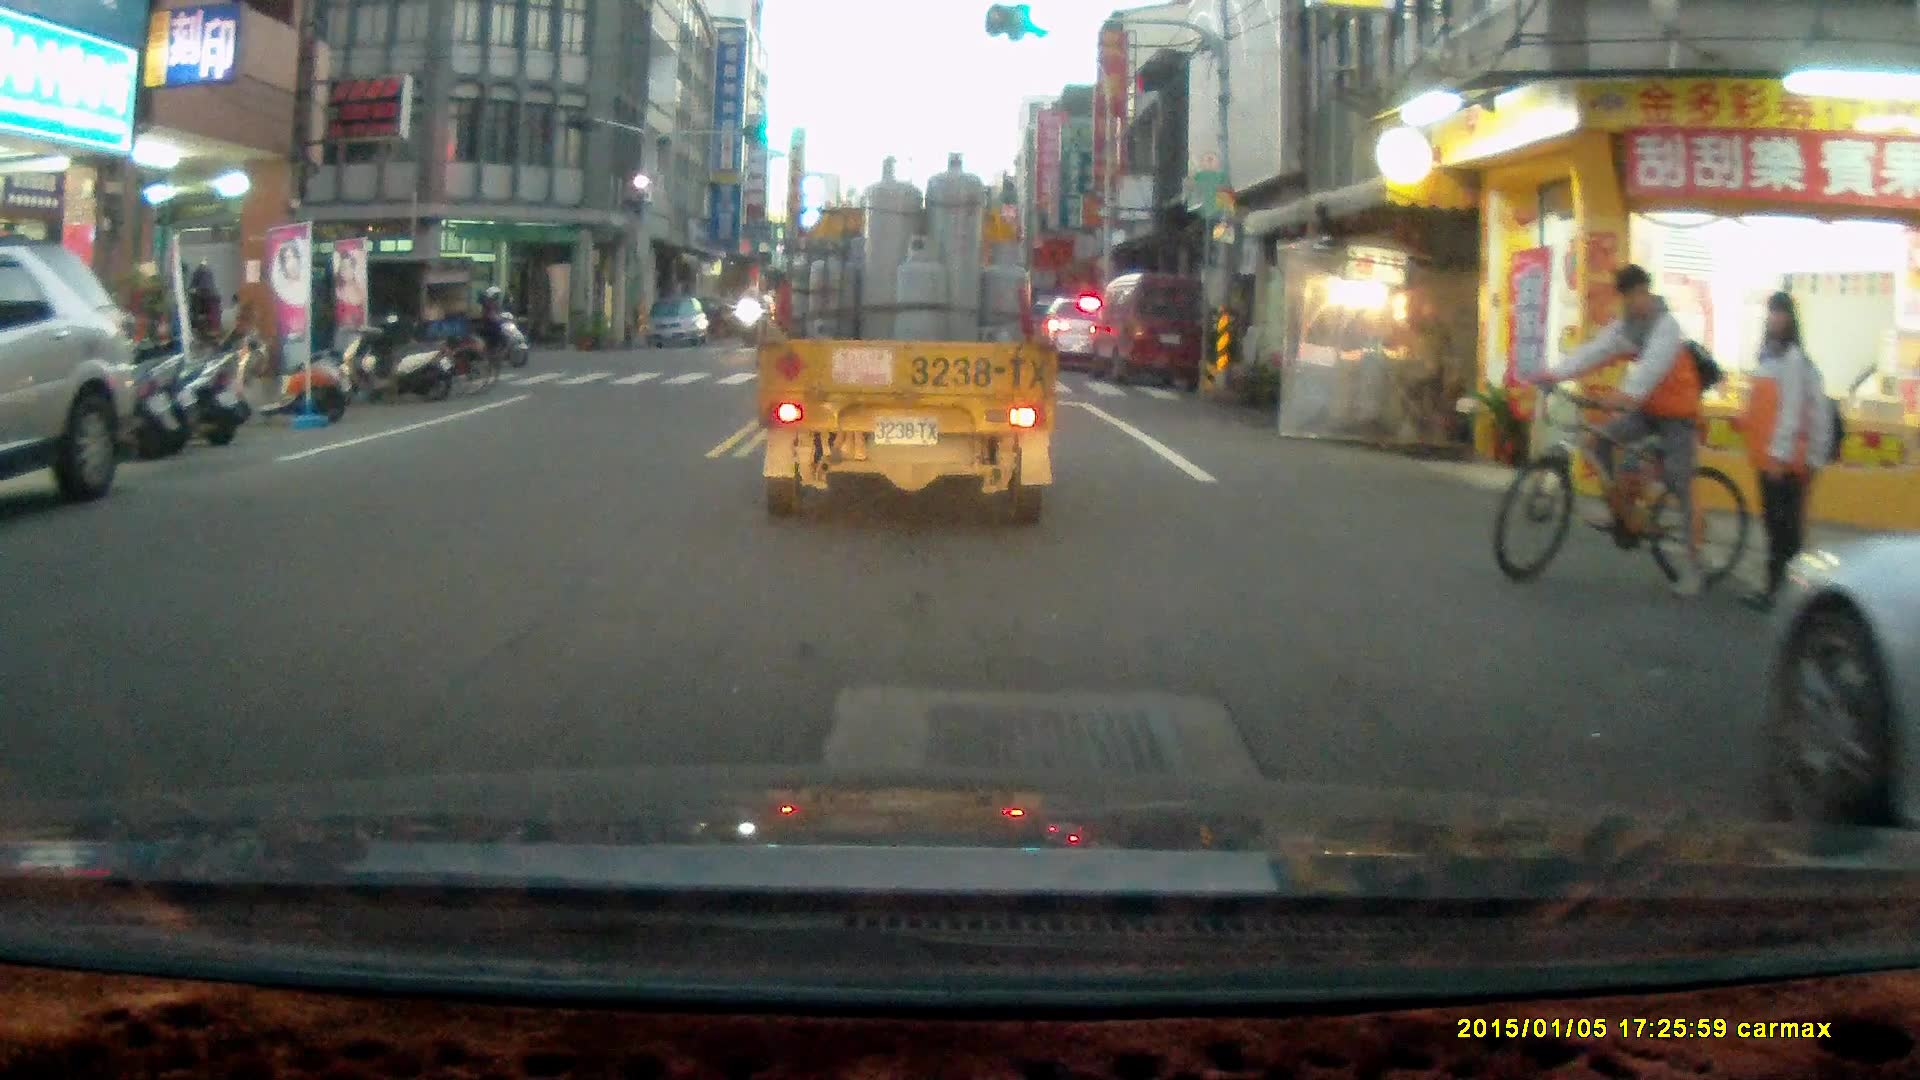pedestrian: (1735, 290, 1815, 612), (186, 263, 222, 373)
rider: (1494, 264, 1748, 602), (458, 282, 525, 370)
vehicle: (753, 161, 1044, 521), (1, 239, 143, 505), (300, 247, 484, 370), (1090, 271, 1212, 388), (1041, 294, 1111, 370), (644, 295, 712, 350)
